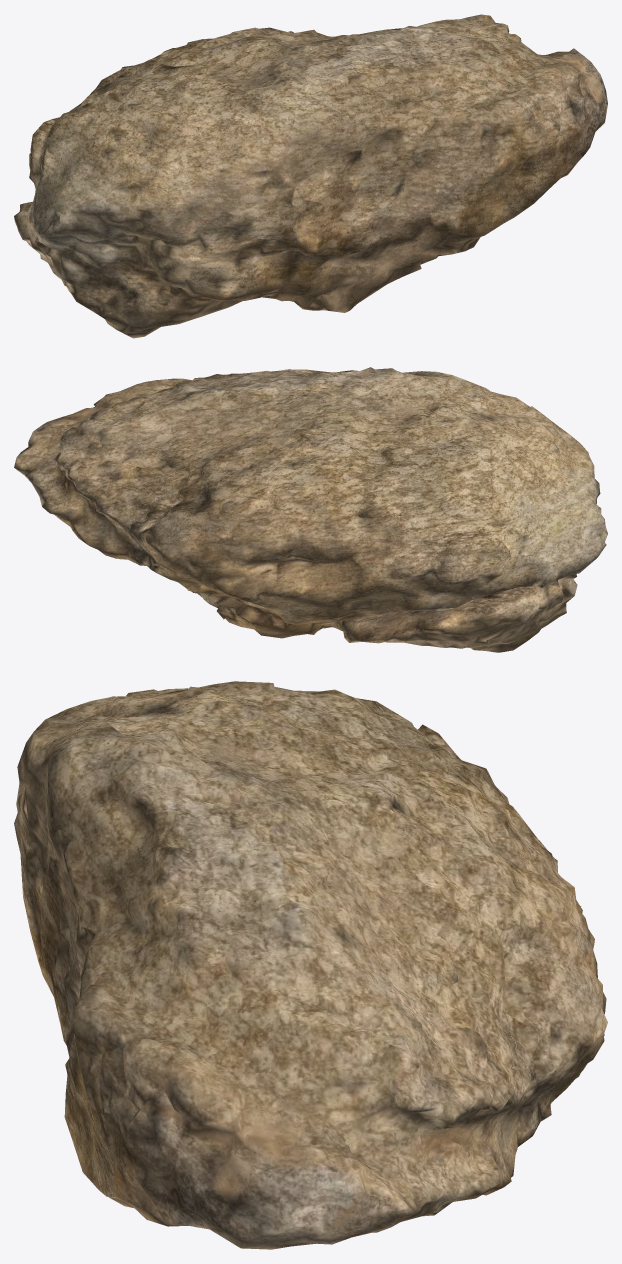
File: ph_namaqualand_boulder_05.glb
The picture shows the model from 3 angles, top to bottom: view 1: azimuth 30°, elevation 25°; view 2: azimuth 150°, elevation 25°; view 3: azimuth 270°, elevation 25°; orthographic projection. The views are drawn at different scales.
Visible parts, largest first — view 1: namaqualand_boulder_05; view 2: namaqualand_boulder_05; view 3: namaqualand_boulder_05.
Boxes of the visible parts, x1=… form: namaqualand_boulder_05: x1=14, y1=14, x2=607, y2=338; namaqualand_boulder_05: x1=14, y1=367, x2=607, y2=652; namaqualand_boulder_05: x1=14, y1=681, x2=607, y2=1249.
Bounding box in the file's own units: 1.36 × 0.5337 × 0.7481.
Materials: 1 (1 with a texture image).
